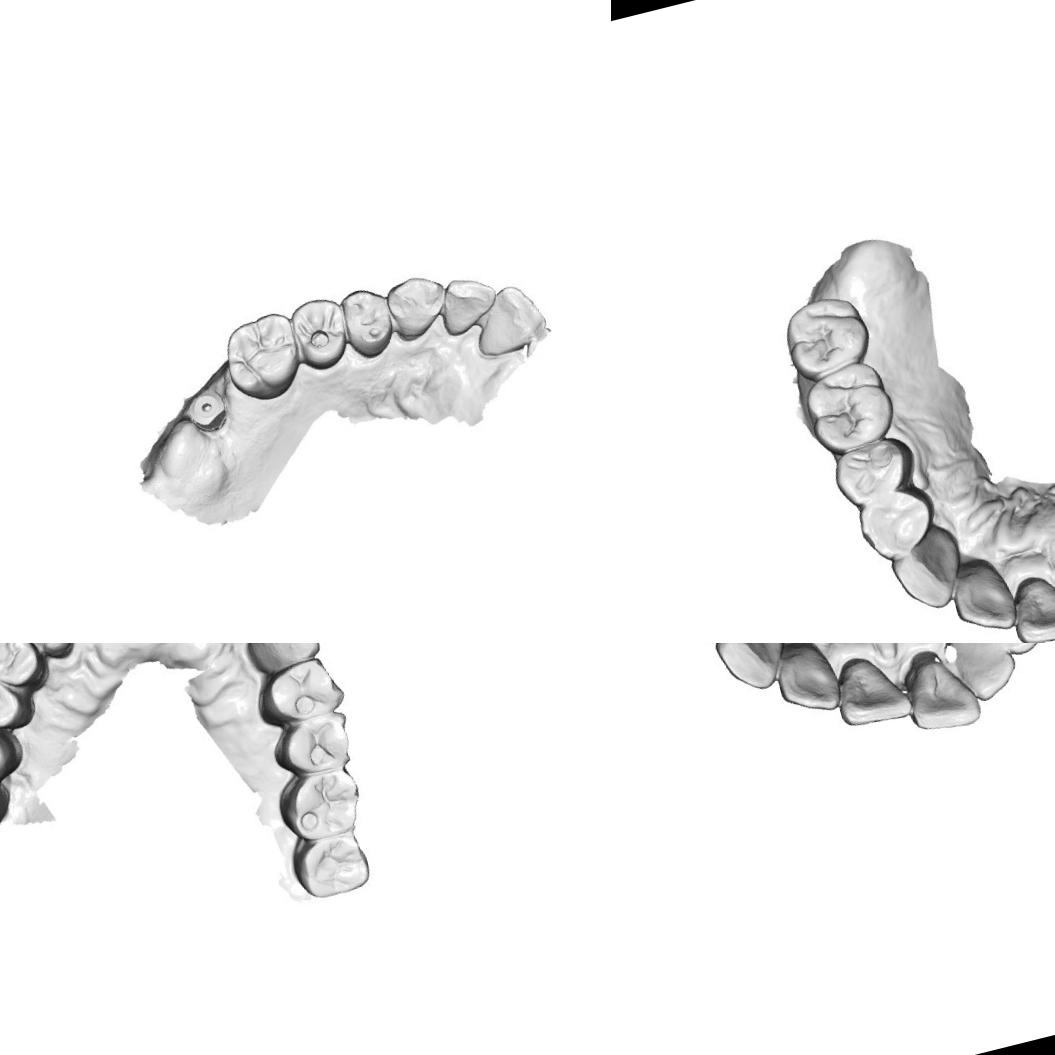canine: (884, 518, 977, 618), (708, 643, 801, 699), (382, 270, 450, 344), (232, 643, 328, 679), (963, 643, 1054, 666), (9, 643, 82, 671)
implant: (178, 382, 234, 439)
incisor: (899, 643, 982, 736), (941, 545, 1024, 637), (830, 646, 914, 732), (466, 278, 548, 361), (765, 643, 848, 718), (432, 266, 504, 339), (944, 643, 1019, 706), (1005, 565, 1055, 643)
molar: (214, 304, 312, 408), (772, 287, 872, 386), (802, 355, 898, 458), (266, 759, 368, 846), (283, 815, 380, 905), (0, 697, 30, 801), (0, 756, 28, 865)
premolar: (244, 648, 350, 733), (826, 428, 920, 512), (264, 706, 362, 781), (850, 486, 942, 565), (282, 287, 358, 375), (333, 282, 399, 364), (0, 655, 44, 749), (0, 643, 56, 711)
